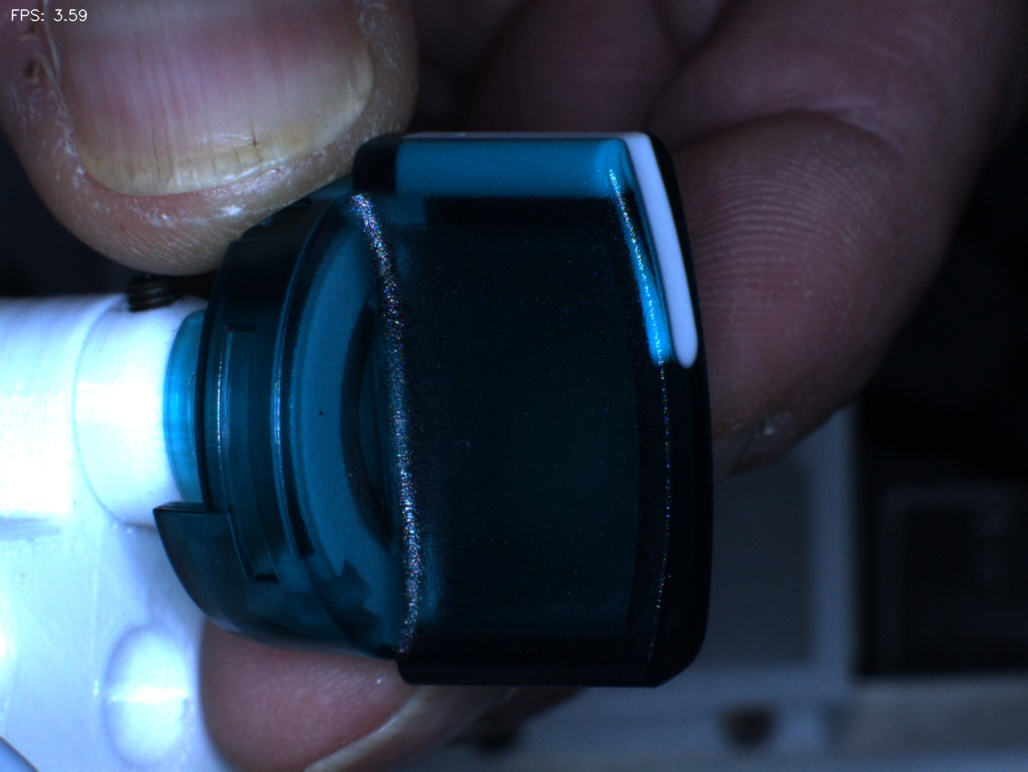PointNoir: (294, 371, 358, 454)
